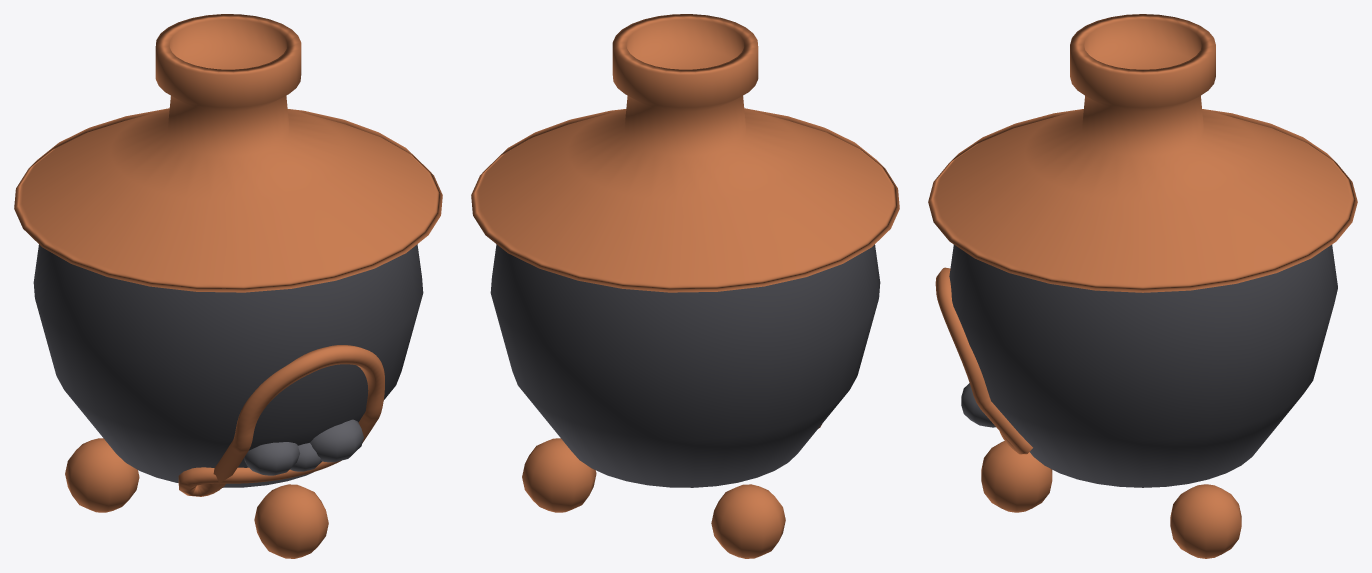
The model's file is baby-bonfire-simple.glb.
The picture shows the model from 3 angles, left to right: view 1: azimuth 30°, elevation 25°; view 2: azimuth 150°, elevation 25°; view 3: azimuth 270°, elevation 25°; orthographic projection.
Visible parts, largest first — view 1: copper-cap-chimney, stone-body, arch-rim, foot0, foot1, baby-bonfire-simple; view 2: copper-cap-chimney, stone-body, foot1, foot2; view 3: copper-cap-chimney, stone-body, foot2, foot0, arch-rim, baby-bonfire-simple.
Part boxes in pixels (bbox=[...]): copper-cap-chimney: bbox=[14, 14, 442, 292]; stone-body: bbox=[33, 244, 423, 487]; arch-rim: bbox=[178, 345, 384, 496]; foot0: bbox=[254, 484, 328, 558]; foot1: bbox=[65, 438, 139, 512]; baby-bonfire-simple: bbox=[244, 419, 363, 475]; copper-cap-chimney: bbox=[471, 14, 899, 292]; stone-body: bbox=[490, 244, 880, 487]; foot1: bbox=[711, 484, 785, 558]; foot2: bbox=[522, 438, 596, 512]; copper-cap-chimney: bbox=[928, 14, 1357, 292]; stone-body: bbox=[949, 244, 1337, 487]; foot2: bbox=[1170, 484, 1241, 558]; foot0: bbox=[981, 441, 1052, 512]; arch-rim: bbox=[935, 267, 1032, 454]; baby-bonfire-simple: bbox=[961, 383, 995, 427].
Size of the model in its own units: 0.109 by 0.13 by 0.109.
